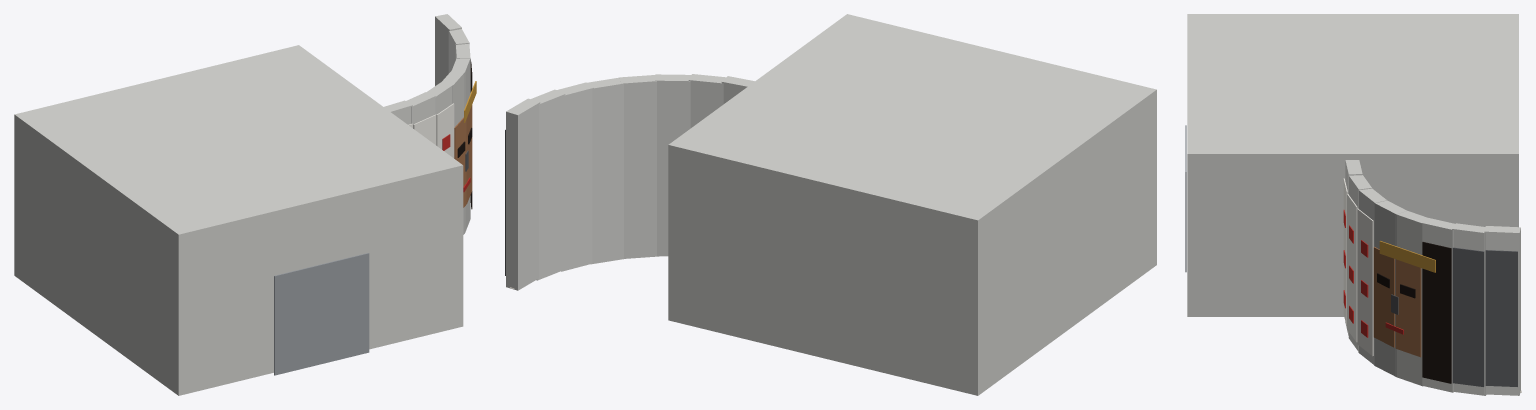
File: sn_headdress.glb
3 views of the same model, side by side, from view 1: azimuth 30°, elevation 25°; view 2: azimuth 150°, elevation 25°; view 3: azimuth 270°, elevation 25° (orthographic). The views are drawn at different scales.
Visible parts, largest first — view 1: sn_headdress_lod0; view 2: sn_headdress_lod0; view 3: sn_headdress_lod0.
Part boxes in pixels (<box>): sn_headdress_lod0: <box>14,14,476,395</box>; sn_headdress_lod0: <box>505,14,1156,395</box>; sn_headdress_lod0: <box>1185,14,1521,395</box>.
Size of what is drawn, in the model's own units: 18.35 by 6.83 by 12.17.
